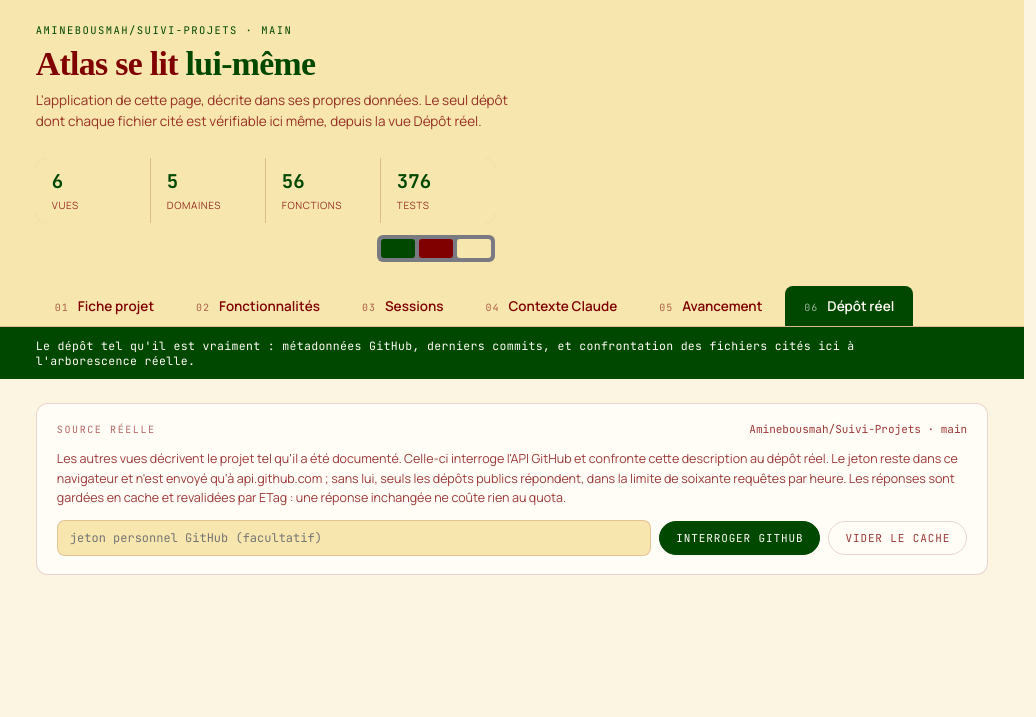
Scenario: vue Dépôt réel › dit quels fichiers de contexte il a lus, et lesquels manquent
Step 1. Click the button "Interroger GitHub" → (740, 538), box top-left (659, 522), bottom-right (820, 556)
(page scrolled)
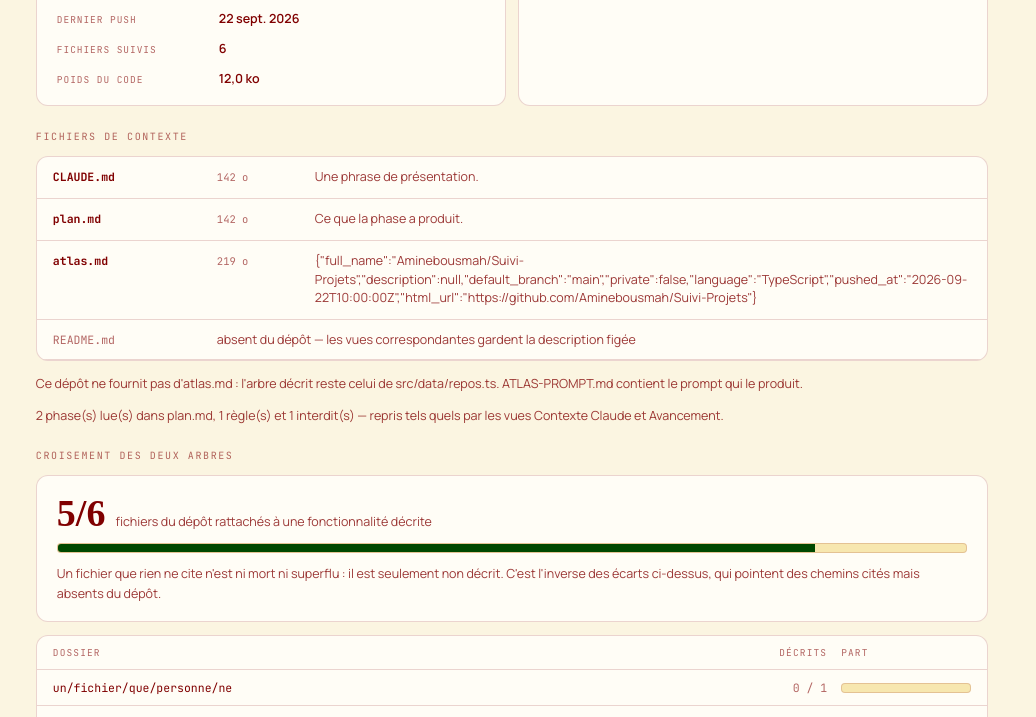
Now the text "poids du code" is shown, box top-left (57, 74), bottom-right (143, 86)
Now the text "Une phrase de présentation." is shown, box top-left (315, 168), bottom-right (479, 186)
Now the text "absent du dépôt" is shown, box top-left (217, 331), bottom-right (636, 348)
